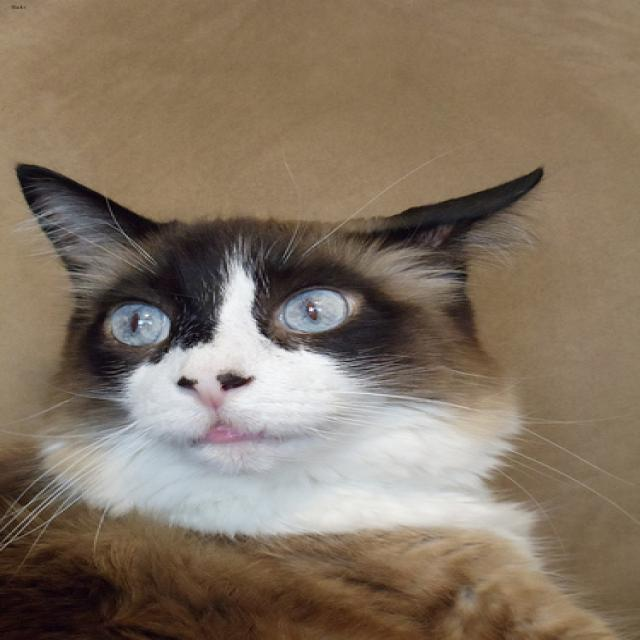Ragdoll: (14, 163, 541, 470)
